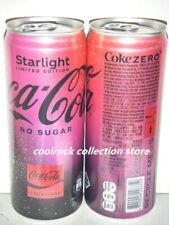metal: (6, 17, 166, 220)
